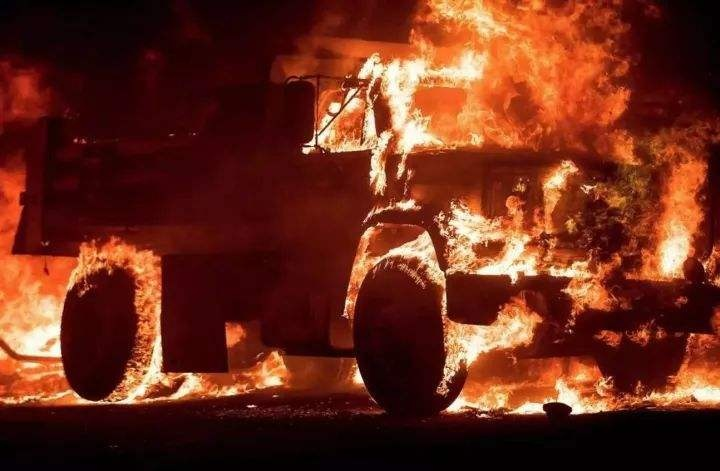fire: (305, 2, 714, 412), (1, 70, 284, 408)
